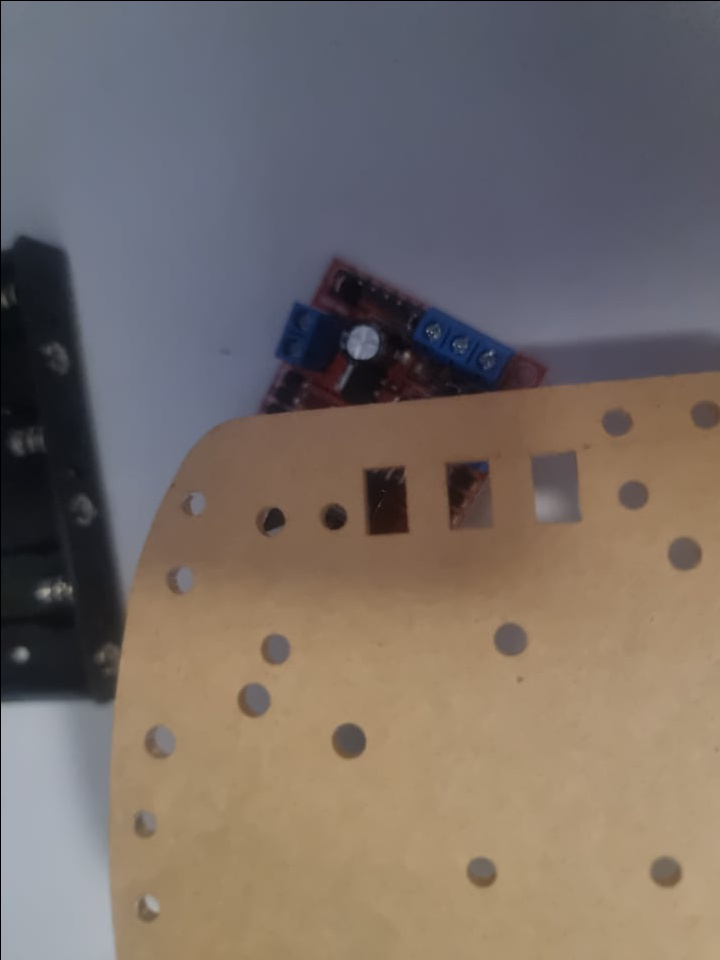BATTERY BOX: (0, 229, 130, 722)
MOTOR: (251, 252, 562, 522)
